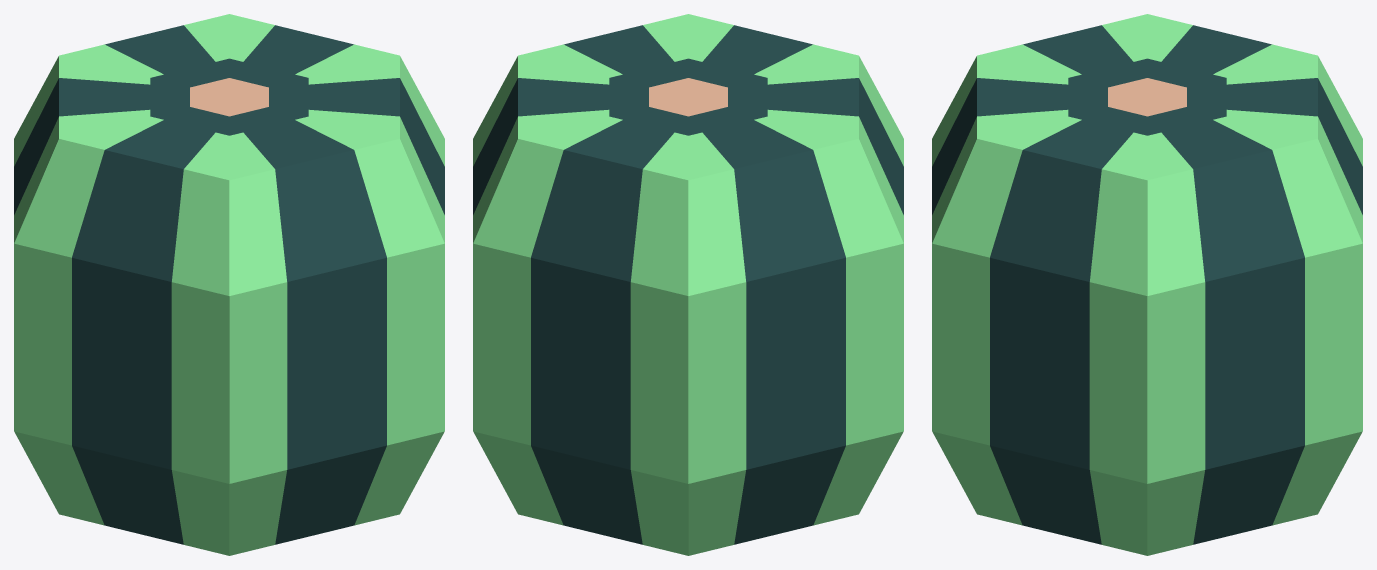
Rendered from 14_waterMelon.fbx.
3 renders of one model, left to right at view 1: azimuth 30°, elevation 25°; view 2: azimuth 150°, elevation 25°; view 3: azimuth 270°, elevation 25°, orthographic.
Parts seen in each view (by area): view 1: crop_melon; view 2: crop_melon; view 3: crop_melon.
Part boxes in pixels (left/top/right/bottom): crop_melon: left=14, top=14, right=444, bottom=555; crop_melon: left=473, top=14, right=903, bottom=555; crop_melon: left=932, top=14, right=1362, bottom=555.
Size of the model in its own units: 4.18 by 3.48 by 3.62.
